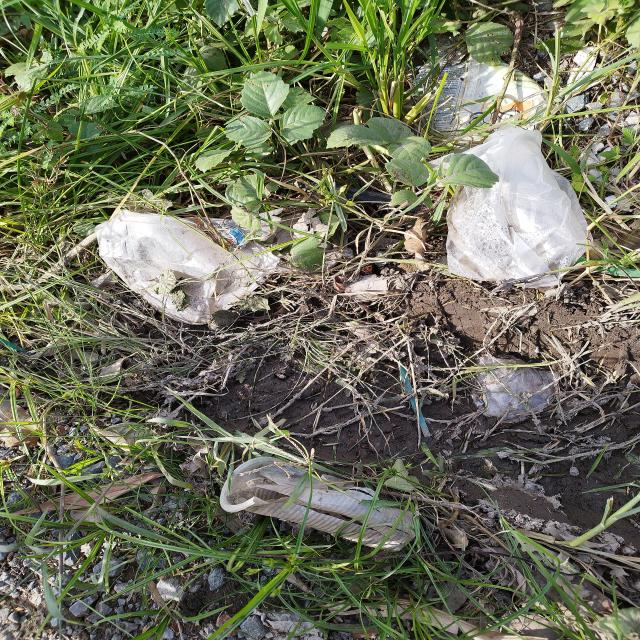bag: (445, 123, 596, 289)
plastic glass: (219, 456, 417, 553)
snack package: (410, 35, 556, 145)
trash bag: (94, 208, 281, 326)
